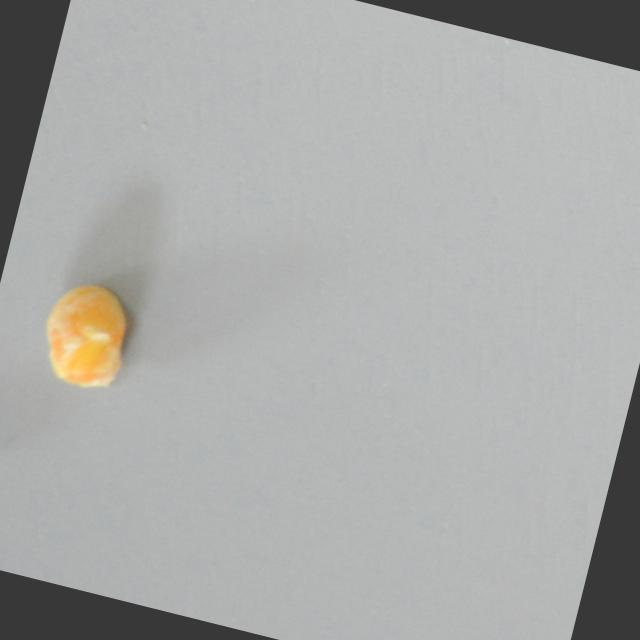pelicula: (28, 272, 143, 396)
